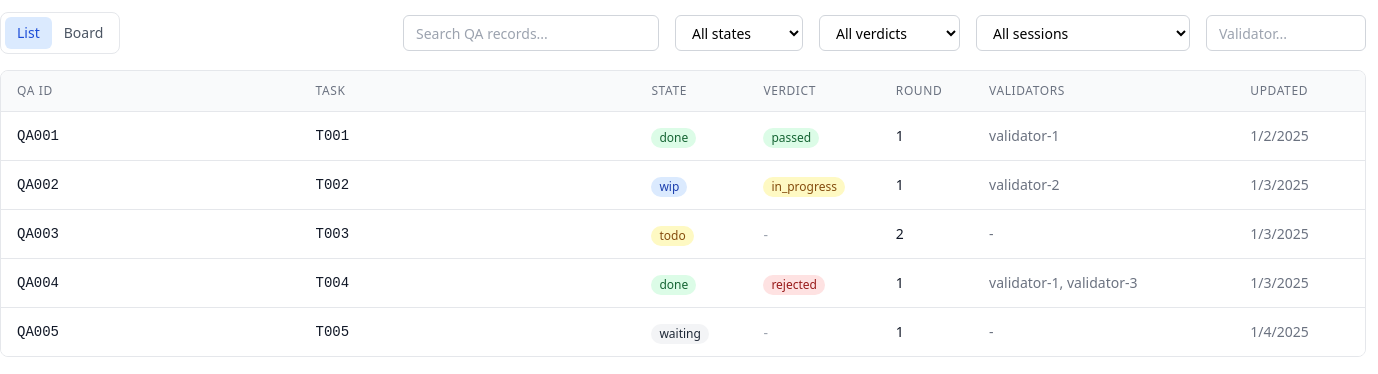
QAView › Filters › filters QA records by state
Select "Wip" in the dropdown named "state": coordinates (739, 33) [675,15,803,51]
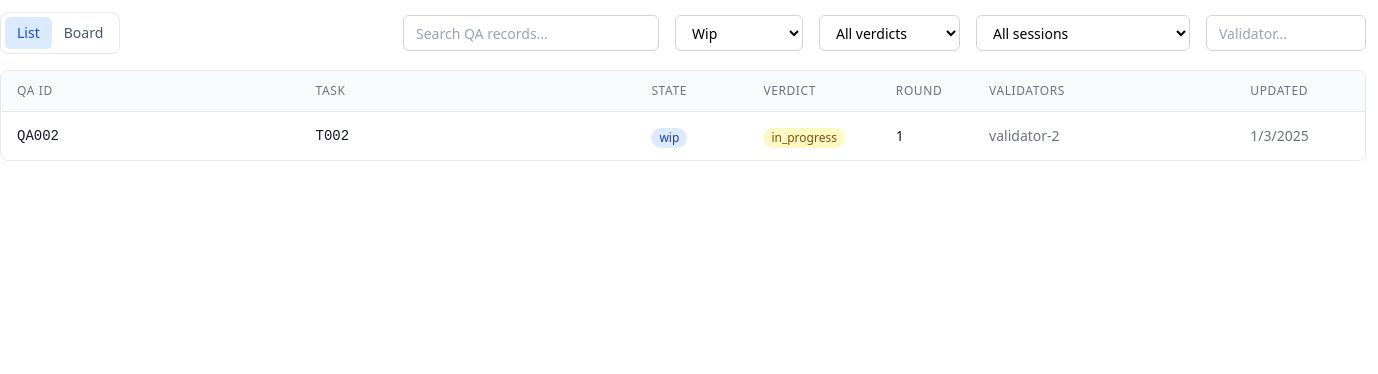
Expected: the text "QA002" is shown, [17,128,59,144]
Expected: the text "QA001" is gone
